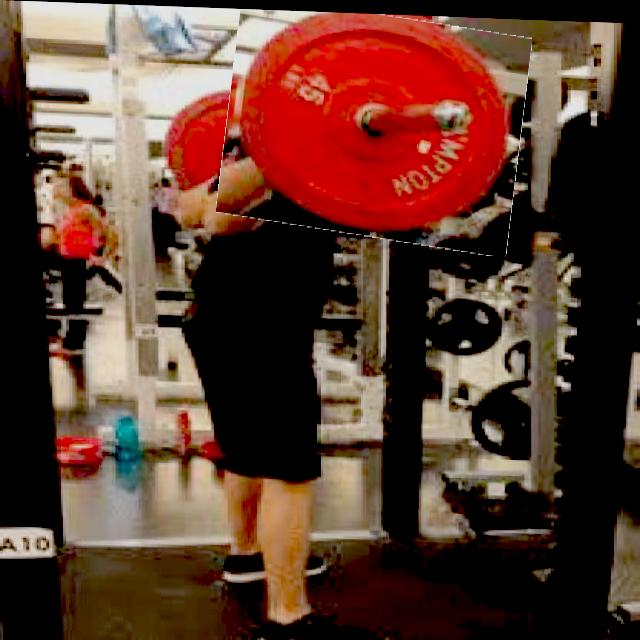barbell: (222, 7, 527, 246)
